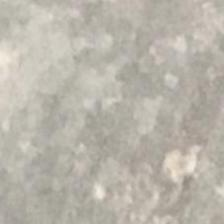Non_Crack: (27, 28, 196, 173)
